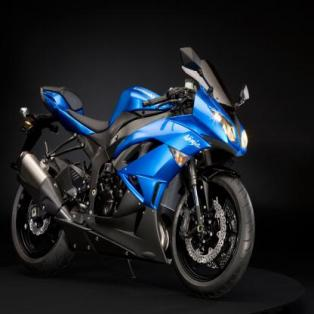Motocicleta: (8, 44, 258, 297)
